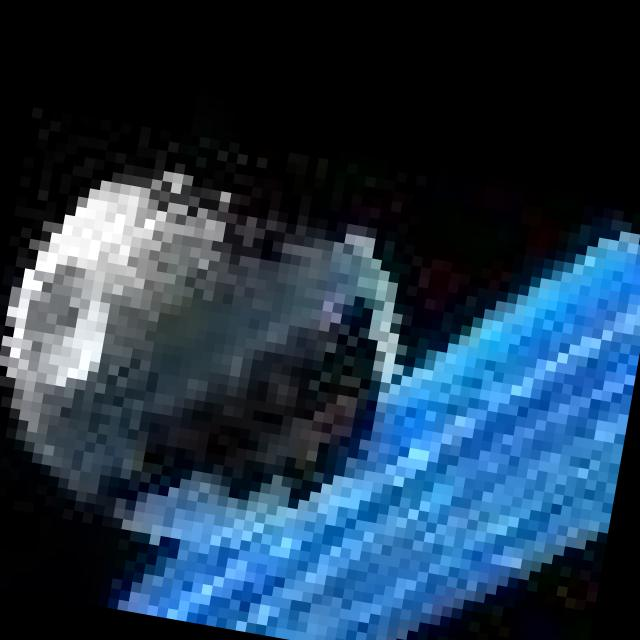Death Star: (0, 139, 436, 575)
